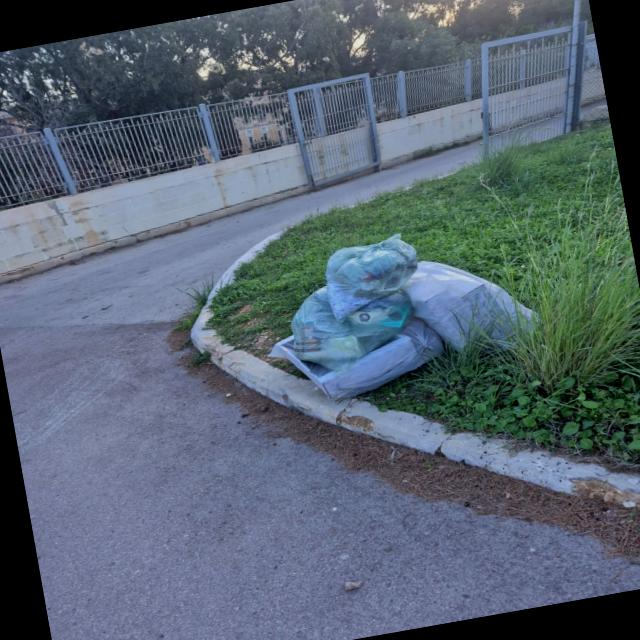grey_bag: (383, 230, 557, 374), (262, 218, 443, 336), (250, 310, 440, 408)
